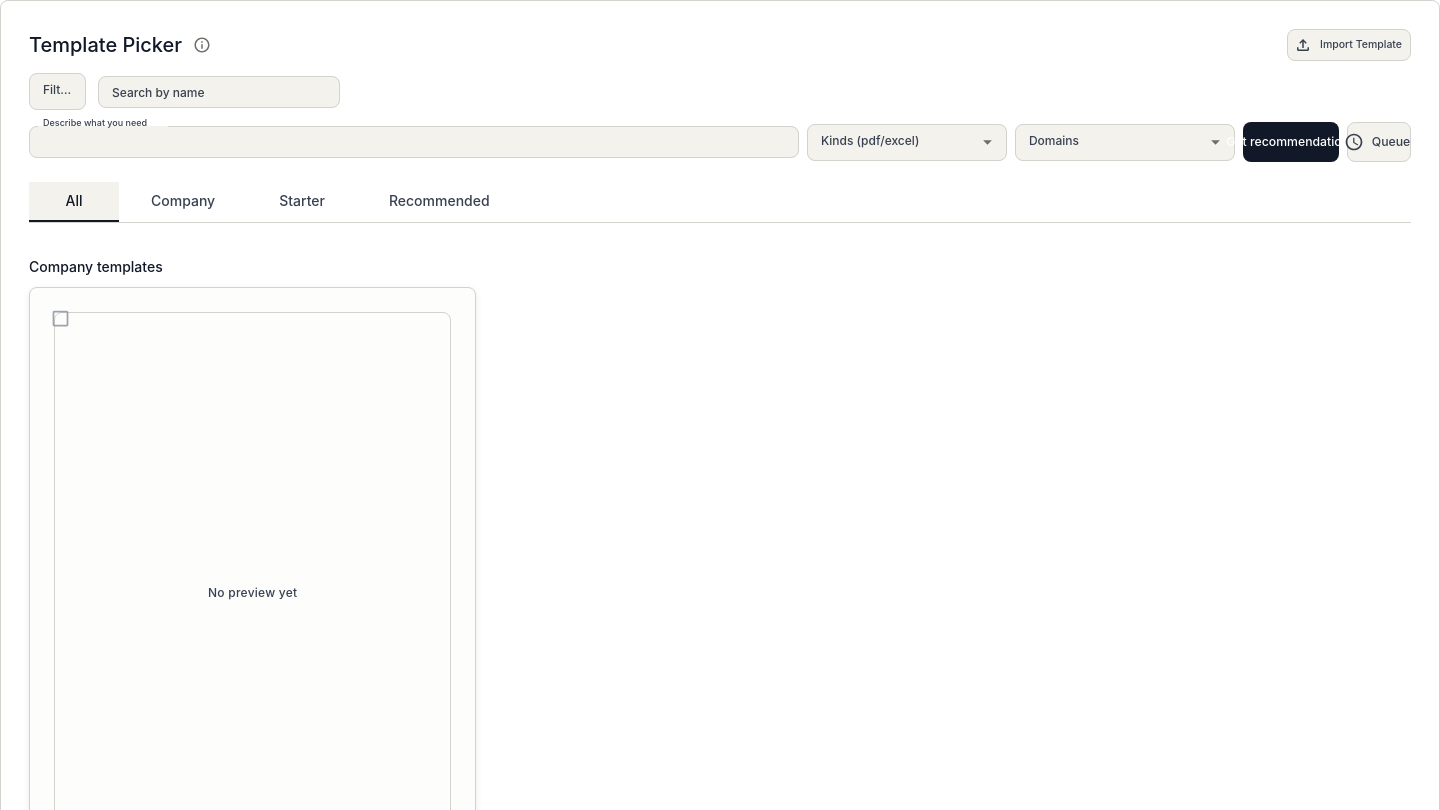
Test: TemplatePicker recommended tab › renders company and starter recommendations with source chips and hints
Type "Need a finance summary" into the field labelled "Describe what you need" at (414, 142), box [29, 126, 799, 158]
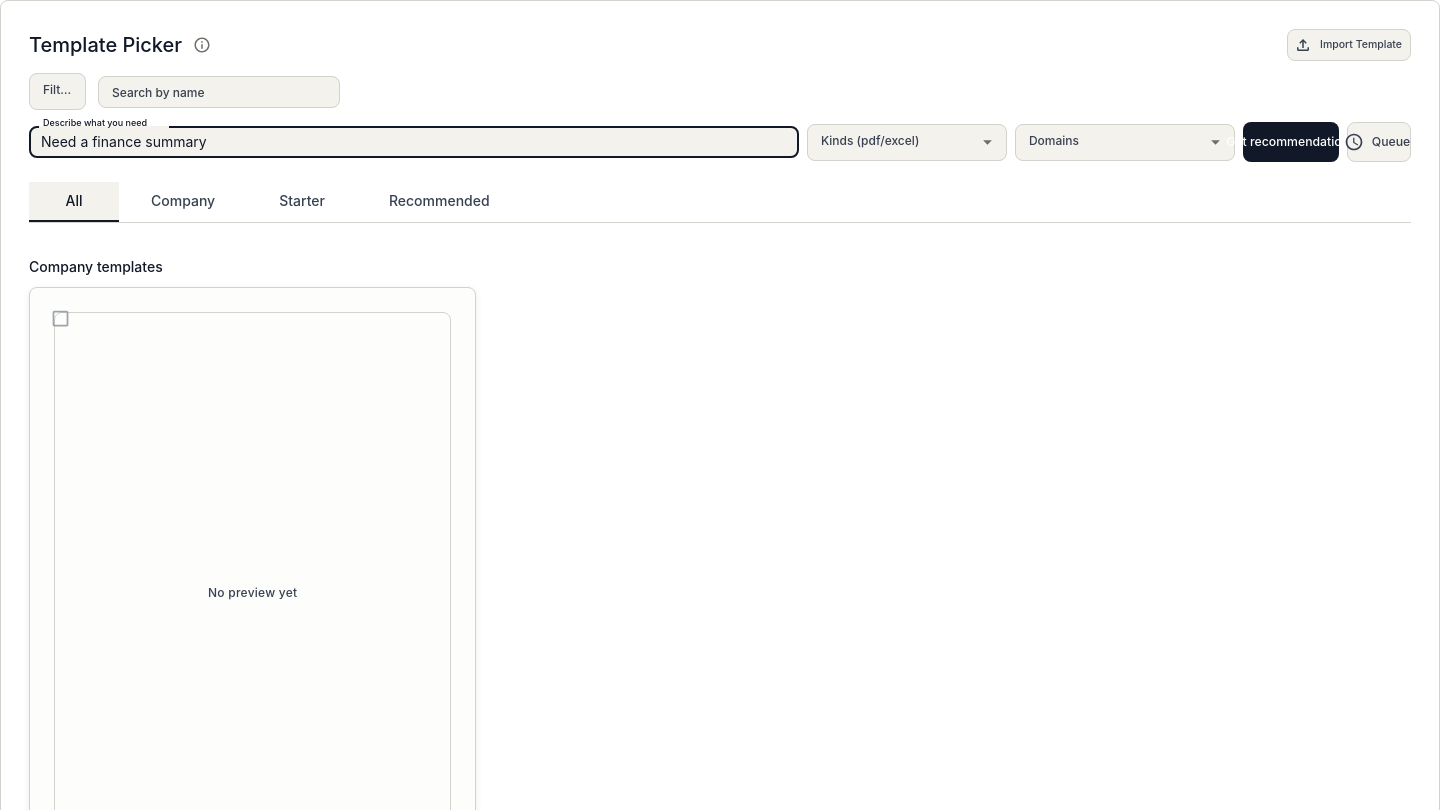
Click the button "Get recommendations" at (1291, 142), box [1243, 122, 1339, 162]
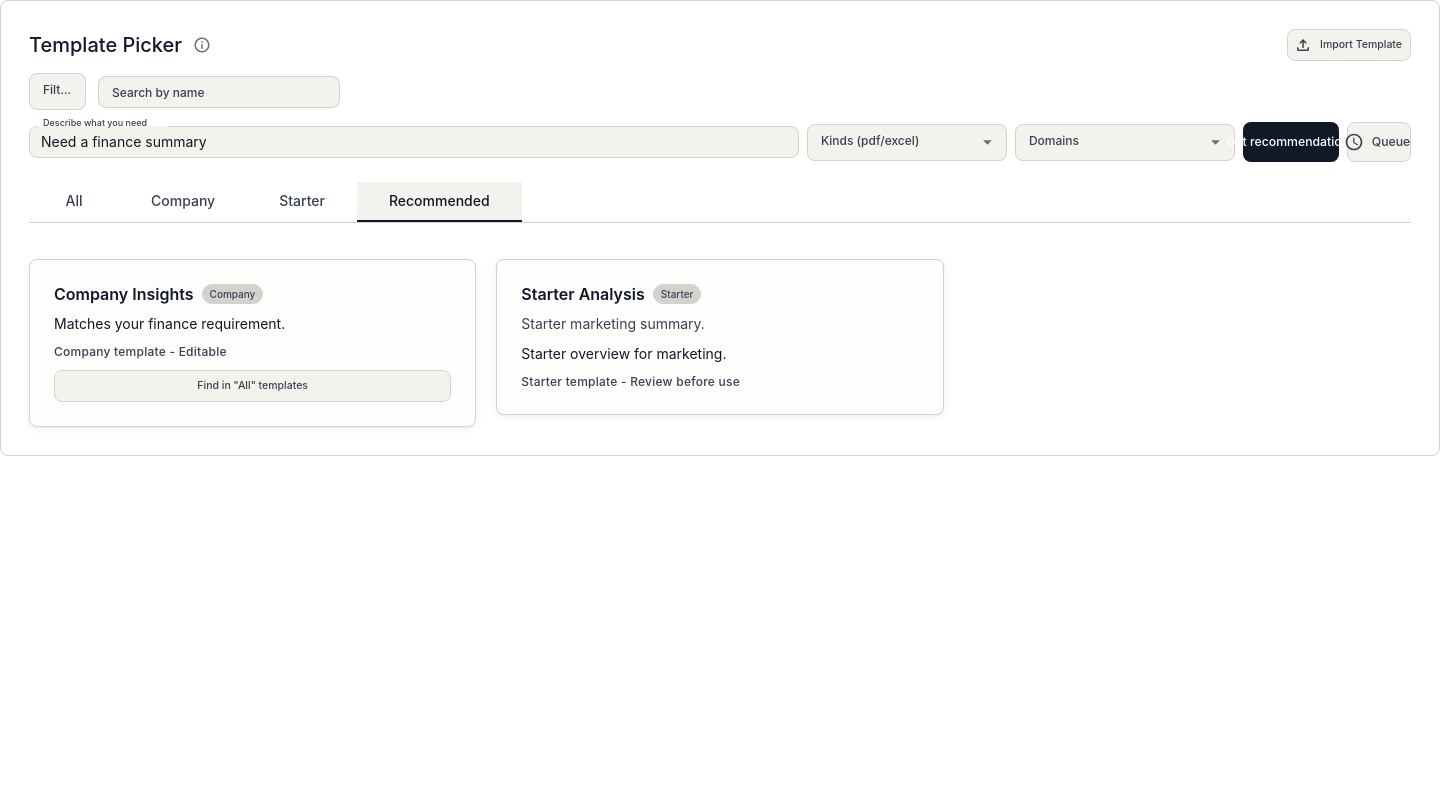
Expected: the heading "Company Insights" is shown, [54, 285, 194, 303]
Expected: the text "Matches your finance requirement." is shown, [54, 315, 285, 332]
Expected: the button "Find in \"All\" templates" is shown, [54, 370, 451, 402]
